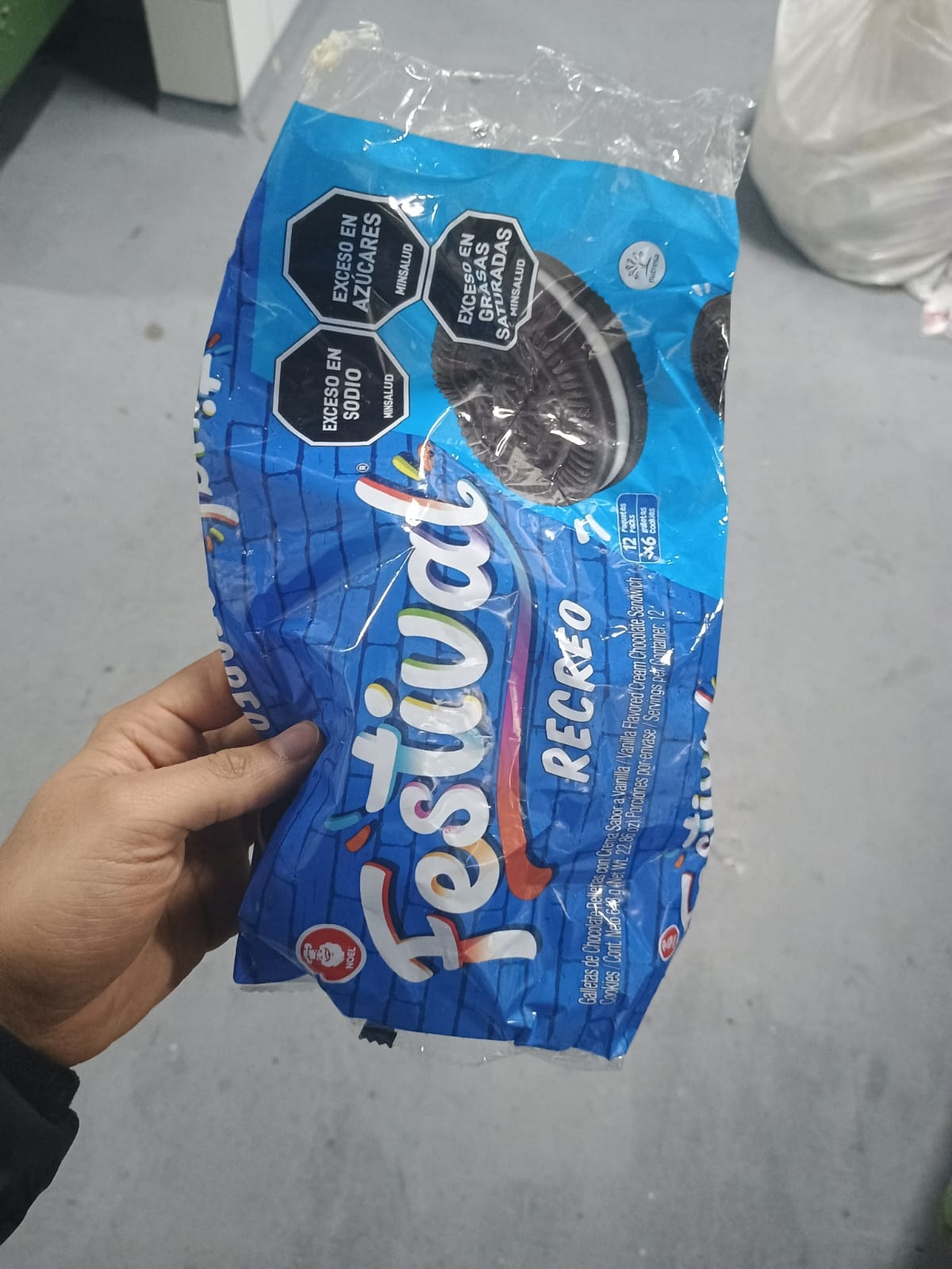Ordinario: (193, 35, 752, 1065)
